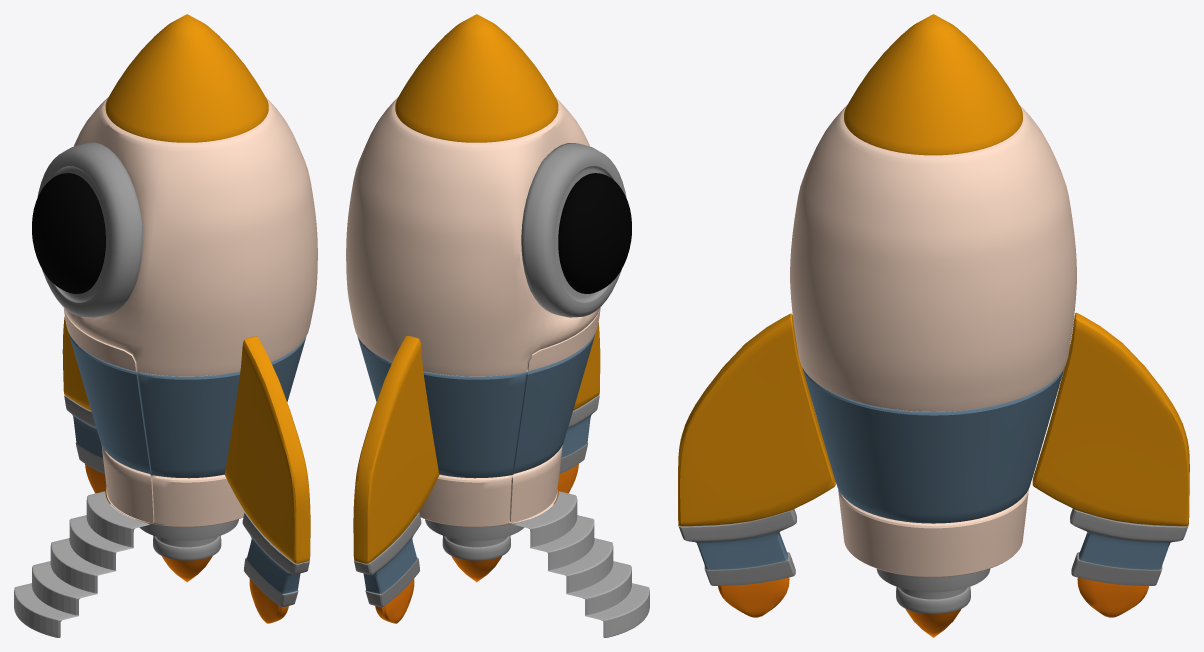
Rendered from rakieta-drzwi 1.fbx.
The picture shows the model from 3 angles, left to right: view 1: azimuth 30°, elevation 25°; view 2: azimuth 150°, elevation 25°; view 3: azimuth 270°, elevation 25°; orthographic projection. The views are drawn at different scales.
Visible parts, largest first — view 1: RAKIETA, DRZWI, SCHODY; view 2: RAKIETA, DRZWI, SCHODY; view 3: RAKIETA.
Boxes of the visible parts, box(x1,y1,x2,y2) form: RAKIETA: box(32, 14, 317, 623); DRZWI: box(64, 309, 154, 523); SCHODY: box(14, 491, 149, 637); RAKIETA: box(346, 14, 631, 623); DRZWI: box(510, 307, 600, 522); SCHODY: box(514, 491, 649, 637); RAKIETA: box(678, 14, 1189, 637).
Size of the model in its own units: 225 by 445 by 329.
